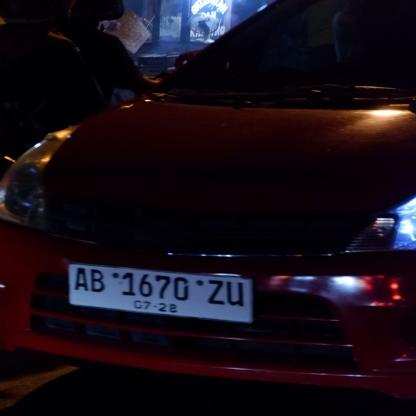Plat-Nomor: (66, 261, 258, 328)
